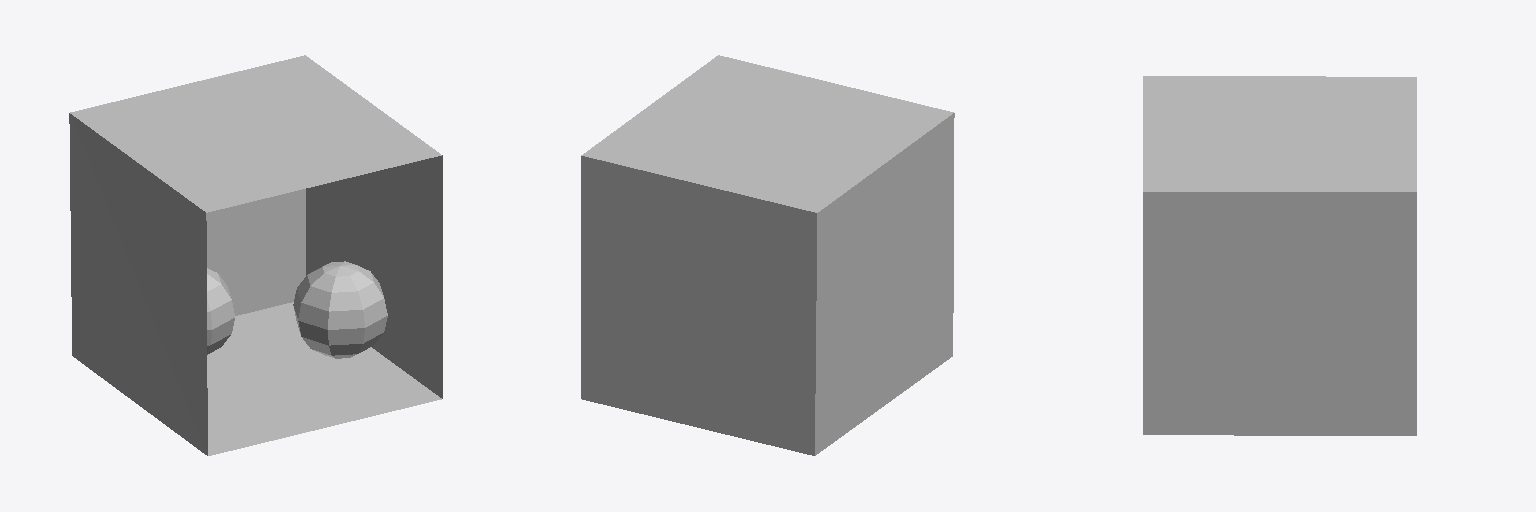
The model's file is spheres.obj.
The picture shows the model from 3 angles: view 1: azimuth 30°, elevation 25°; view 2: azimuth 150°, elevation 25°; view 3: azimuth 270°, elevation 25°; orthographic projection.
Visible parts, largest first — view 1: left_wall, ceiling, right_wall, floor, back_wall, sphere.001, sphere; view 2: back_wall, left_wall, ceiling; view 3: right_wall, ceiling.
Part boxes in pixels (x1,y1,x2,y2): left_wall: (69,113,207,455); ceiling: (70,55,441,212); right_wall: (306,155,442,398); floor: (207,302,441,455); back_wall: (206,189,305,315); sphere.001: (293,261,387,358); sphere: (207,268,234,354); back_wall: (581,156,816,455); left_wall: (815,113,954,455); ceiling: (581,55,953,212); right_wall: (1143,192,1416,435); ceiling: (1143,76,1416,191).
Size of the model in its own units: 5.56 by 5.49 by 5.6.